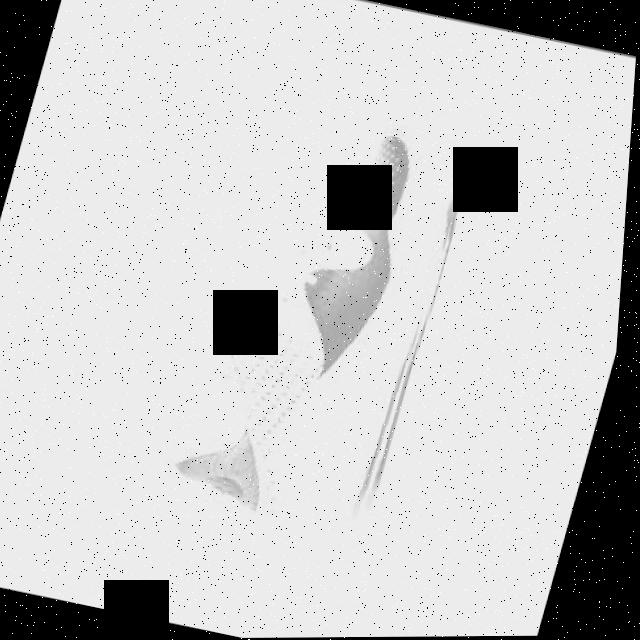shoe: (120, 82, 484, 552)
